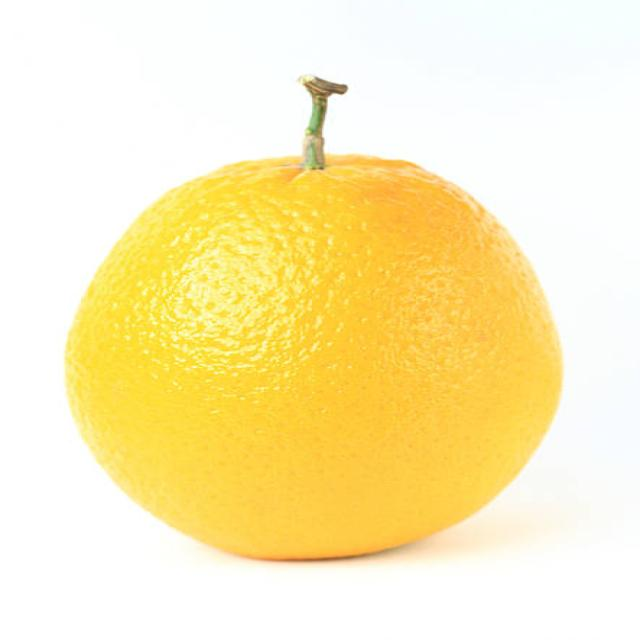Good_Orange: (62, 135, 566, 565)
